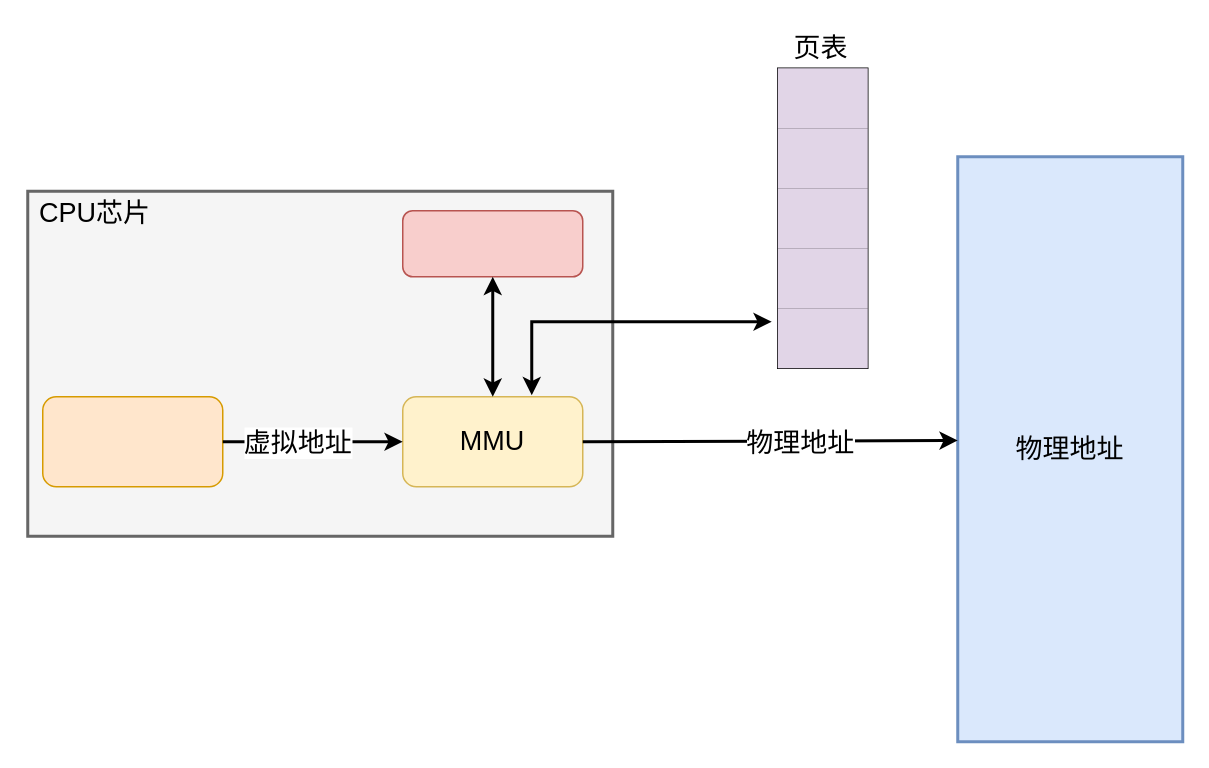
Image size: 1209x768. Some labels were removed from this diagram. The centre of each missing label's shape, as x and y in pixels:
CPU: point (132, 441)
TLB: point (492, 243)
